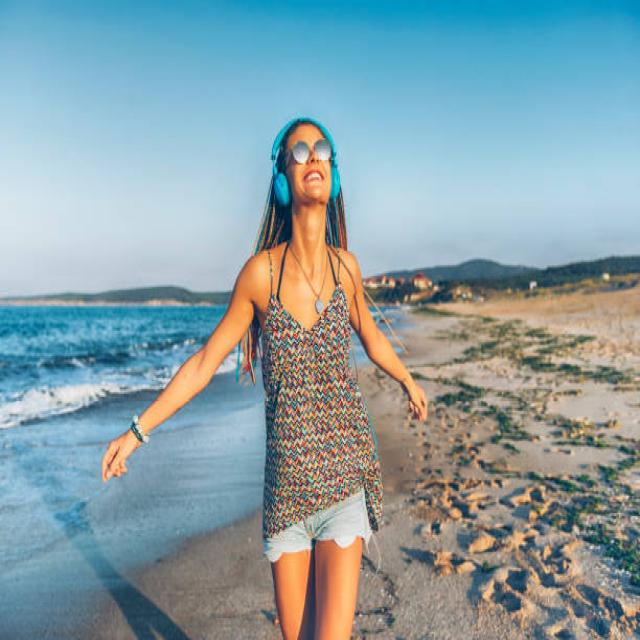Headphone: (270, 114, 341, 207)
